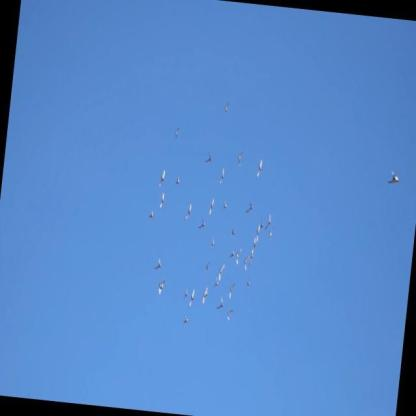bird: (386, 167, 401, 187), (253, 157, 264, 180), (157, 168, 167, 192), (216, 261, 226, 282), (234, 247, 243, 268), (228, 278, 236, 301), (263, 213, 272, 232), (215, 295, 224, 314), (184, 201, 192, 222), (201, 283, 209, 304), (158, 191, 166, 211), (207, 196, 215, 216), (242, 253, 250, 273), (152, 256, 163, 270), (188, 287, 195, 309), (218, 166, 225, 187), (254, 223, 261, 244), (157, 277, 165, 295), (244, 201, 255, 214), (236, 148, 243, 167), (225, 307, 233, 322), (197, 216, 206, 229), (173, 124, 180, 139), (251, 234, 257, 251), (248, 248, 254, 265), (204, 152, 213, 163), (223, 99, 229, 113), (204, 260, 211, 272), (182, 288, 188, 300), (147, 210, 154, 220), (228, 249, 235, 259), (174, 176, 180, 187), (268, 229, 273, 242), (210, 237, 215, 249), (222, 200, 227, 211), (246, 277, 251, 288), (183, 314, 188, 324), (259, 218, 263, 229), (230, 228, 235, 236)
